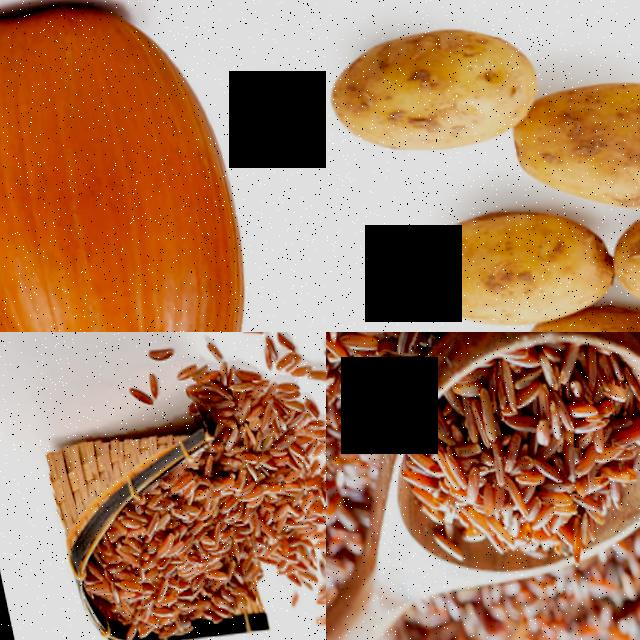potato: (381, 190, 618, 332), (326, 0, 525, 168), (505, 49, 640, 232)
pumpkin: (0, 0, 281, 332)
red rice: (384, 332, 640, 580), (81, 462, 255, 638), (206, 357, 326, 582)
